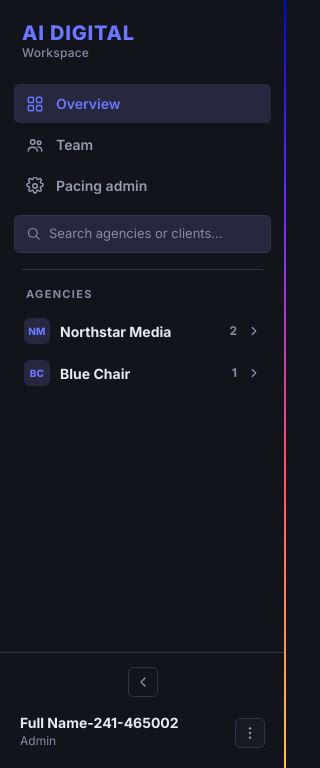
Test case: Sidebar › search › should request matching agencies from the server when searching
expect the text "Northstar Media" is shown: met, box [60, 322, 171, 340]
expect the text "Blue Chair" is shown: met, box [60, 364, 130, 382]
// typing "north" sends the search term to the backend
Type "north" into the search field labelled "Search agencies or clients".
click(154, 234); type("north")  # box [49, 224, 259, 244]
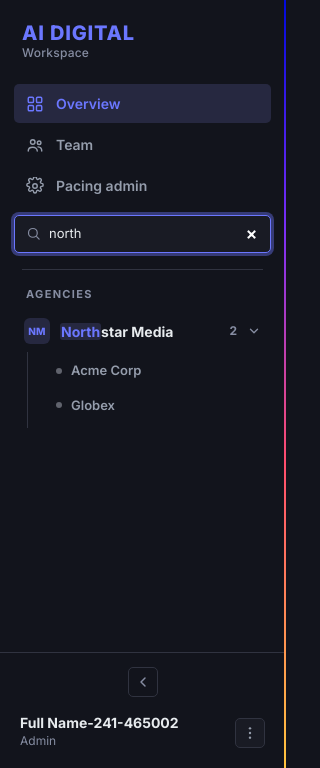
expect the link "Blue Chair" is gone: met
